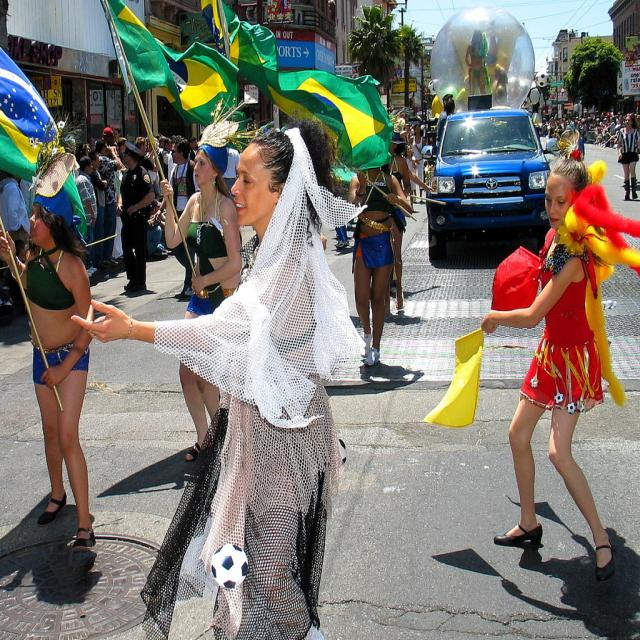car: (419, 95, 559, 250)
